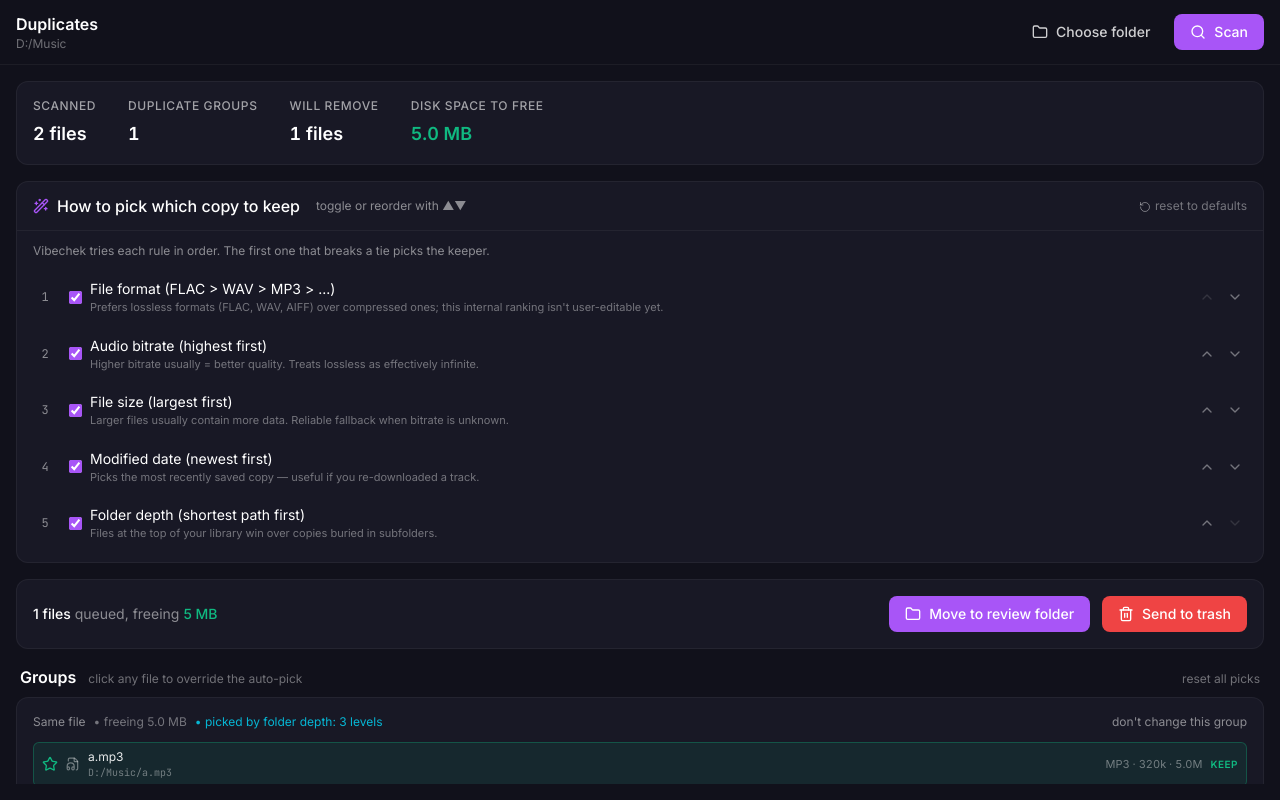
Test: <DuplicatesView /> — review folder must be absolute › accepts a Windows drive path and a POSIX path
Click the button "Move to review folder" at (990, 614), box x1=889 y1=596 x2=1090 y2=632
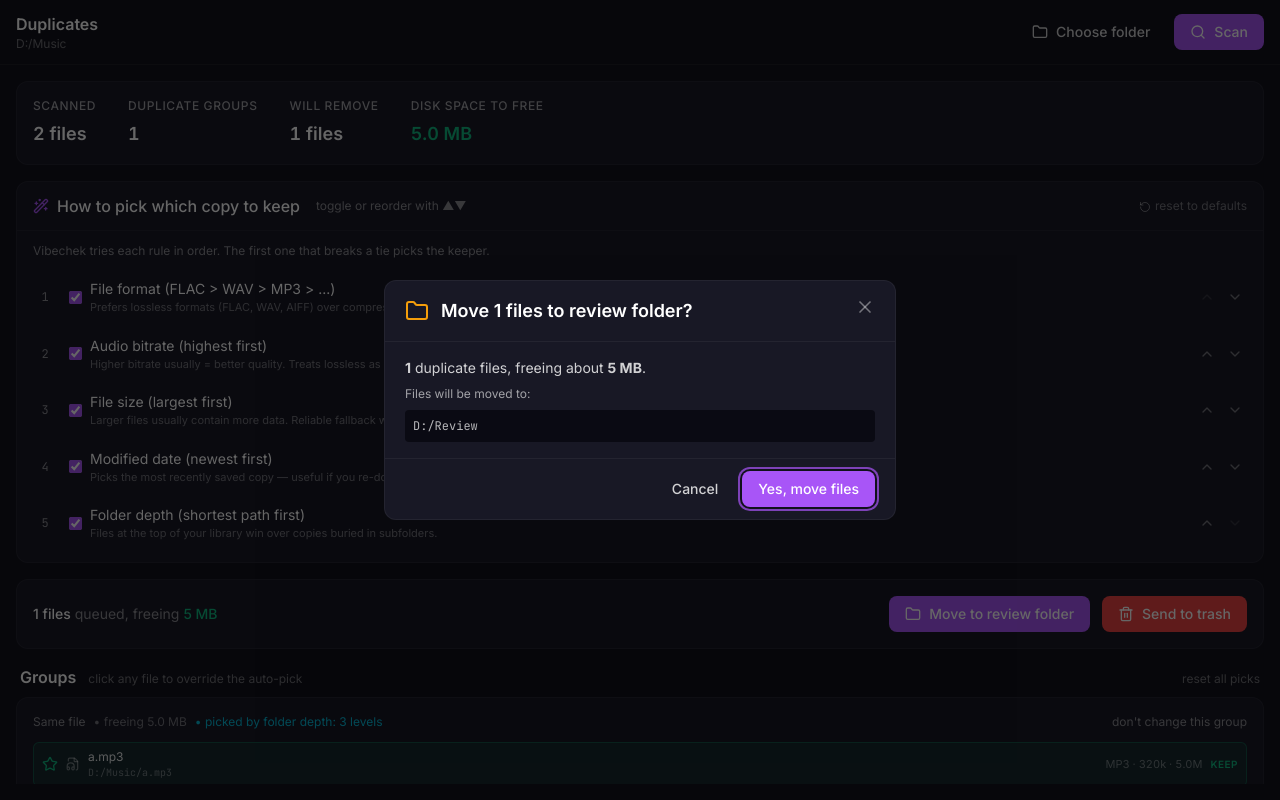
Now the button "Yes, move files" is shown, box x1=742 y1=471 x2=875 y2=507
